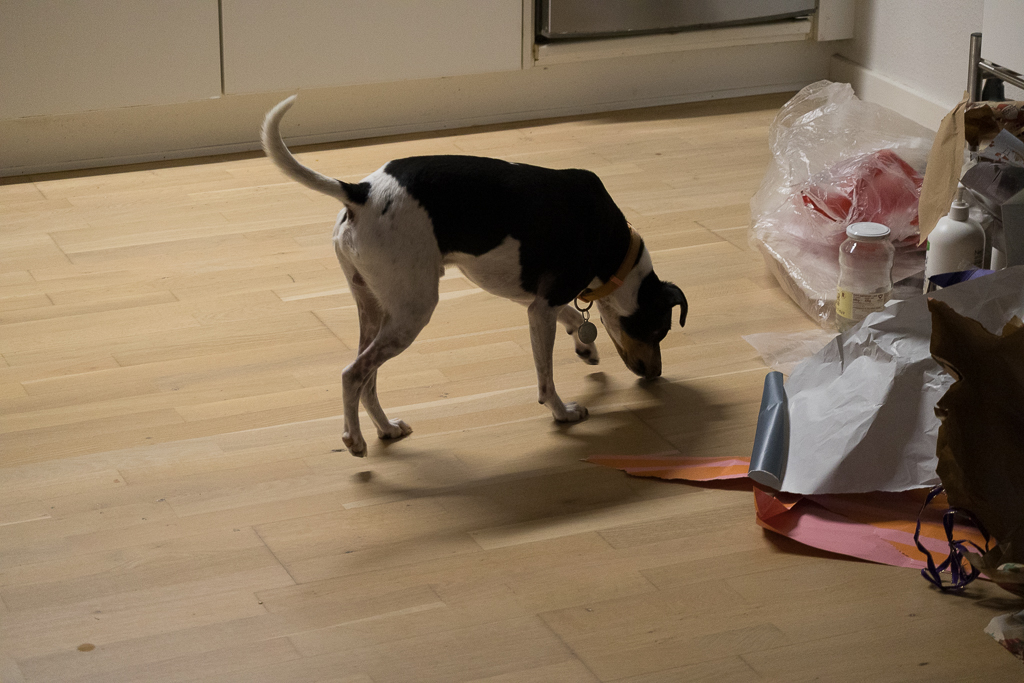Dog: (244, 77, 694, 462)
